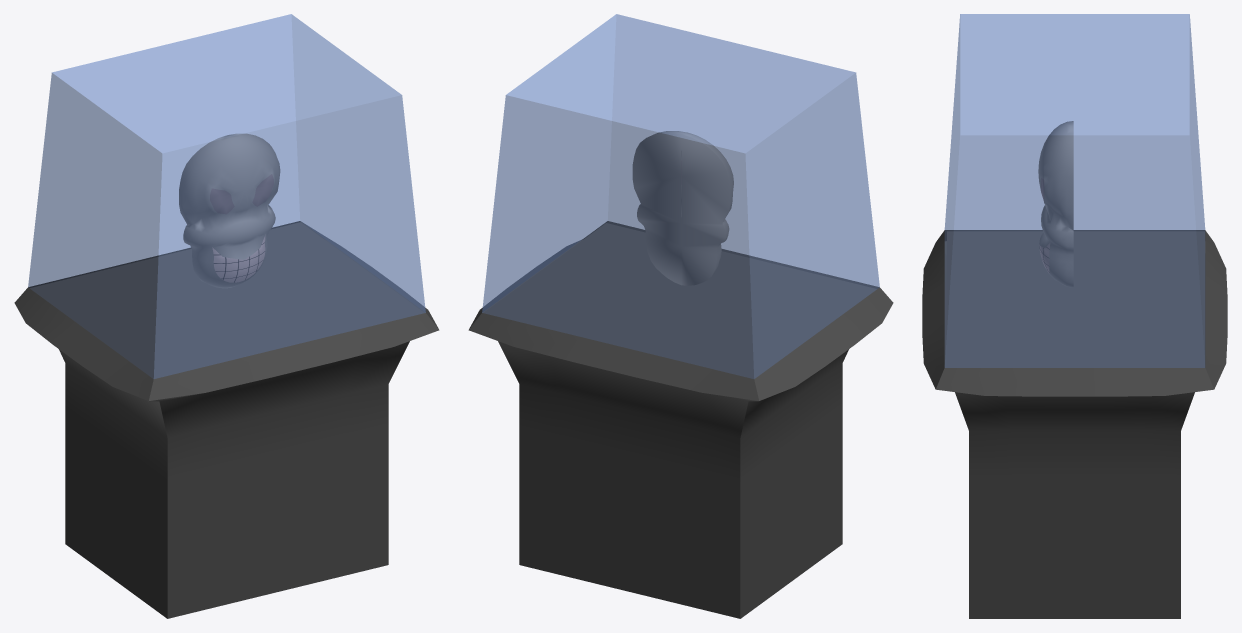
File: CalaveraCaja.fbx
The picture shows the model from 3 angles, left to right: view 1: azimuth 30°, elevation 25°; view 2: azimuth 150°, elevation 25°; view 3: azimuth 270°, elevation 25°; orthographic projection. The views are drawn at different scales.
Parts seen in each view (by area): view 1: Box001, Plane001, Sphere002, Dientes; view 2: Box001, Plane001, Sphere002; view 3: Box001, Plane001, Sphere002.
Part boxes in pixels (x1,y1,x2,y2): Box001: (14, 14, 439, 618); Plane001: (30, 222, 423, 378); Sphere002: (179, 133, 280, 288); Dientes: (212, 235, 265, 282); Box001: (468, 14, 893, 618); Plane001: (484, 223, 876, 378); Sphere002: (632, 131, 733, 285); Box001: (922, 14, 1227, 618); Plane001: (947, 231, 1204, 367); Sphere002: (1038, 121, 1073, 287).
Bounding box in the file's own units: 28.33 × 39.97 × 22.66.
5 materials, 1 textured.
